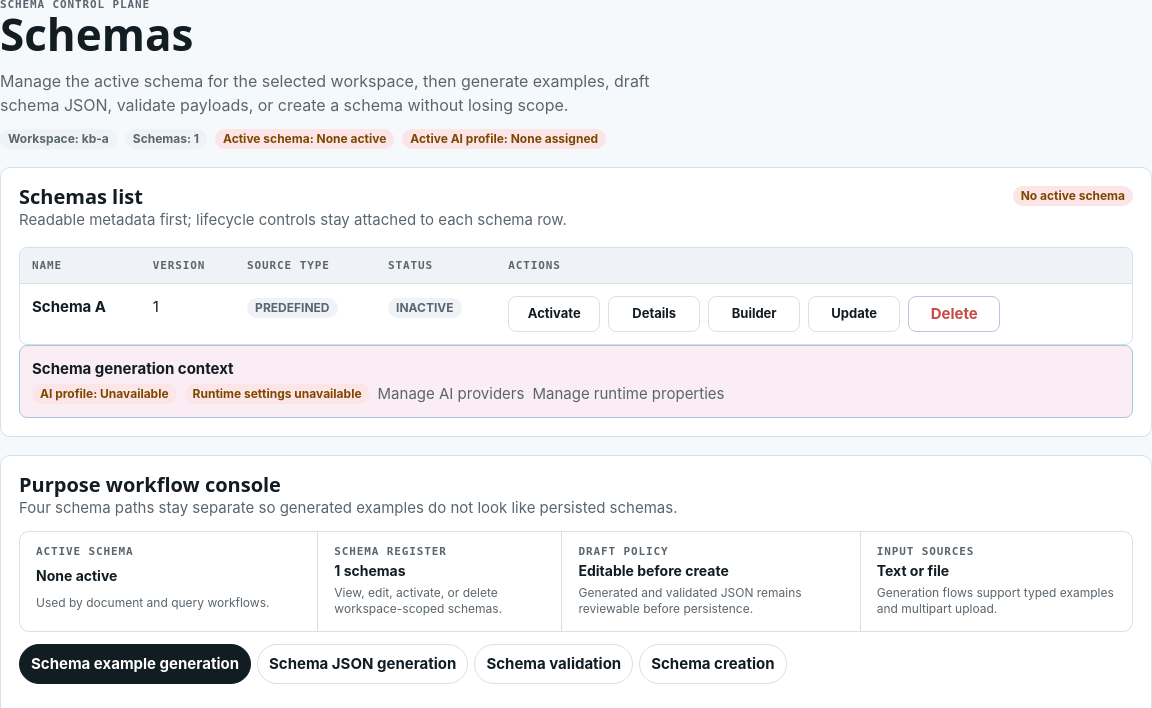
Test case: schemas page › shows activate and validate error alerts
The image size is (1152, 708).
Step 1. Click the button "Activate" → x=554, y=314, box [508,296,600,332]
(page scrolled)
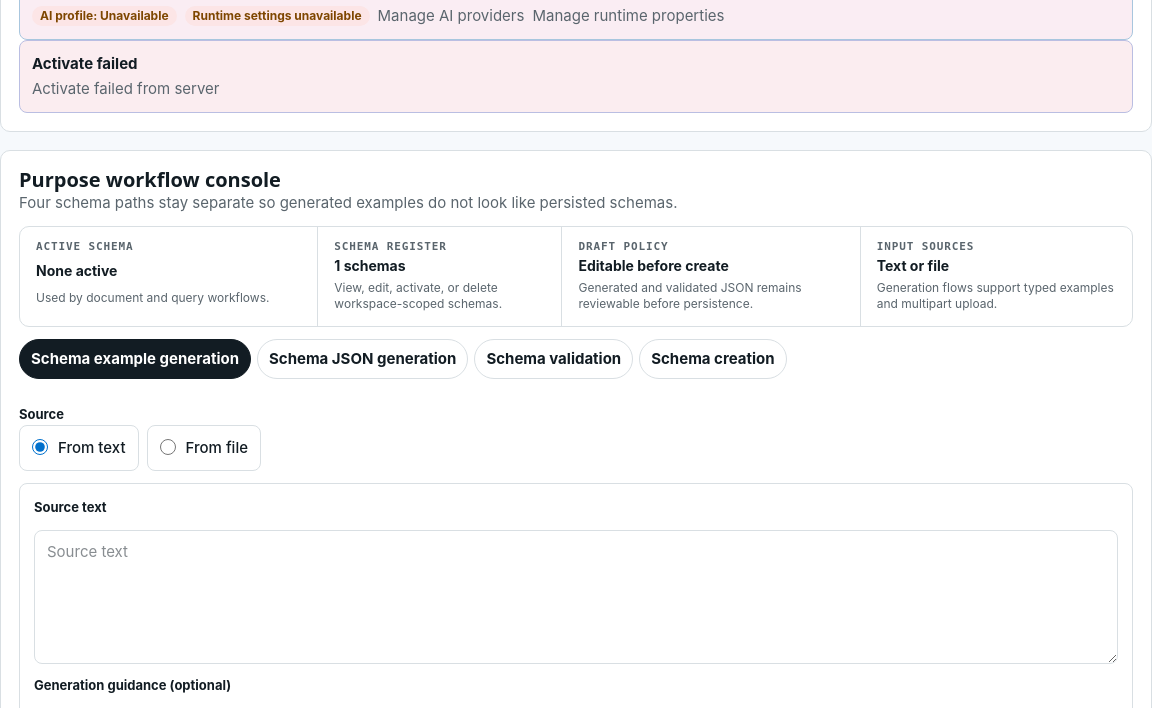
Expected: the text "Activate failed" is shown, [32,54,138,73]
Expected: the text "Activate failed from server" is shown, [32,79,220,98]
Step 2. Click the tab with test id "schemas-purpose-tabs-tab-schema-validation" → x=554, y=359, box [474,339,633,379]
(page scrolled)
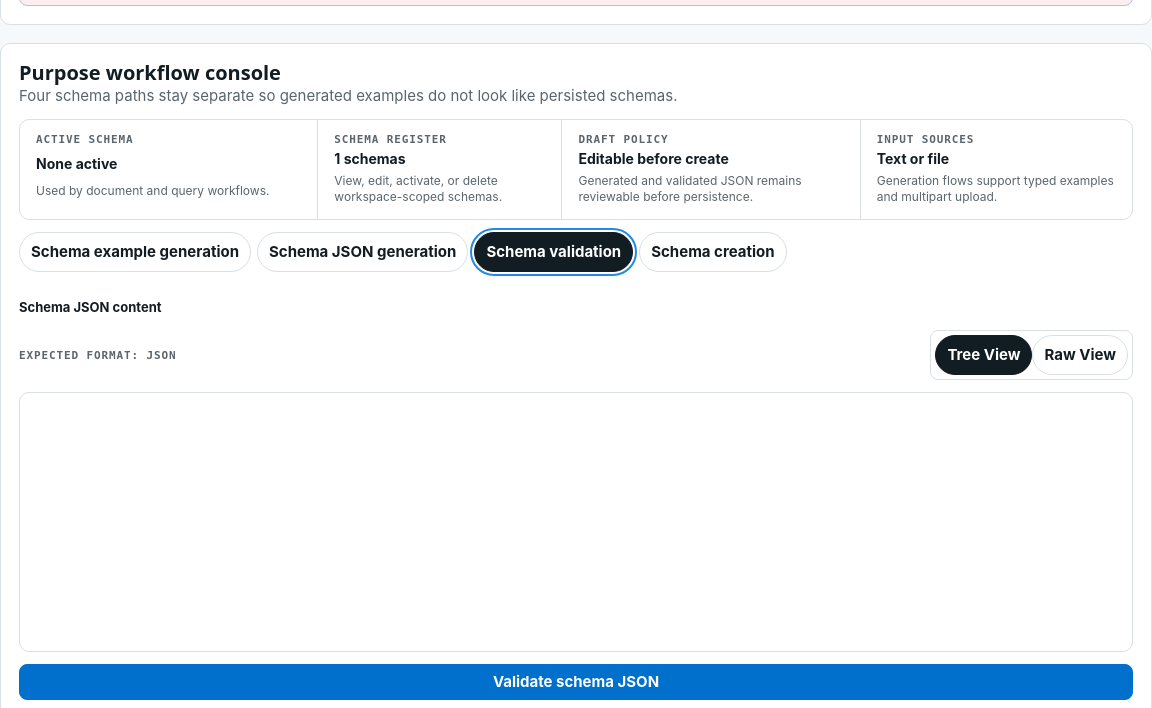
Step 3. Click the button "Validate schema JSON" → x=576, y=682, box [19,664,1133,700]
(page scrolled)
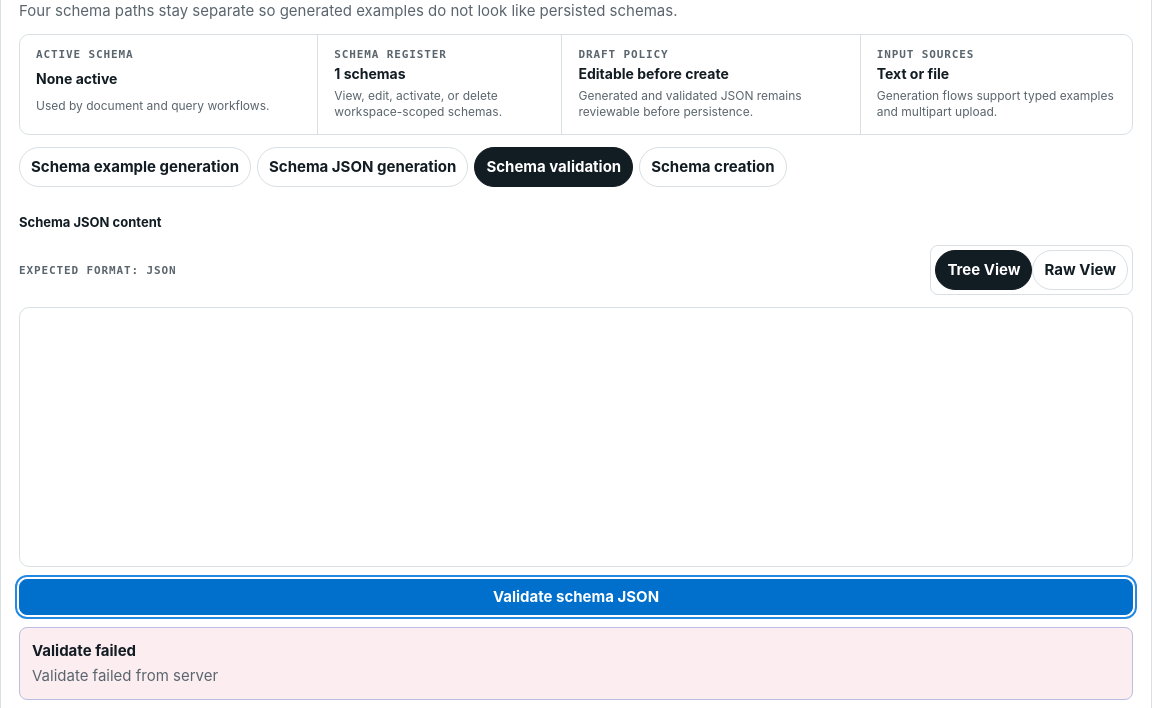
Expected: the text "Validate failed" is shown, [32,641,136,660]
Expected: the text "Validate failed from server" is shown, [32,666,218,685]
